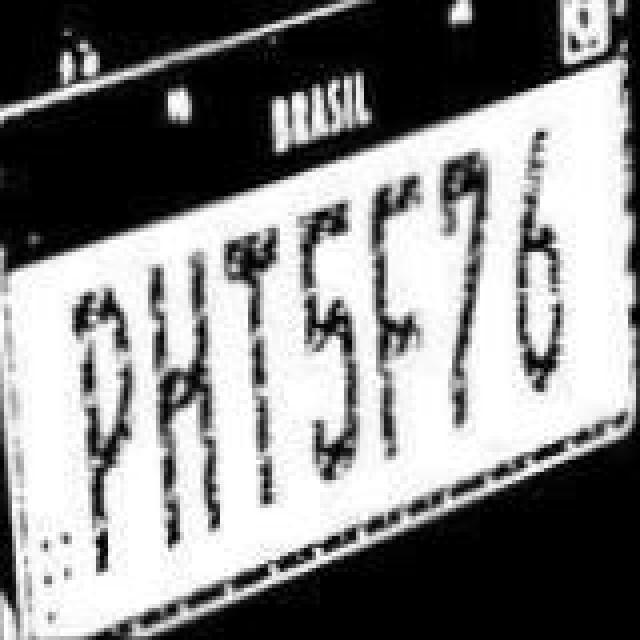5: (290, 198, 362, 490)
6: (498, 114, 578, 402)
7: (432, 134, 500, 434)
F: (368, 170, 428, 474)
H: (142, 248, 226, 552)
P: (62, 278, 146, 582)
T: (218, 224, 290, 512)
